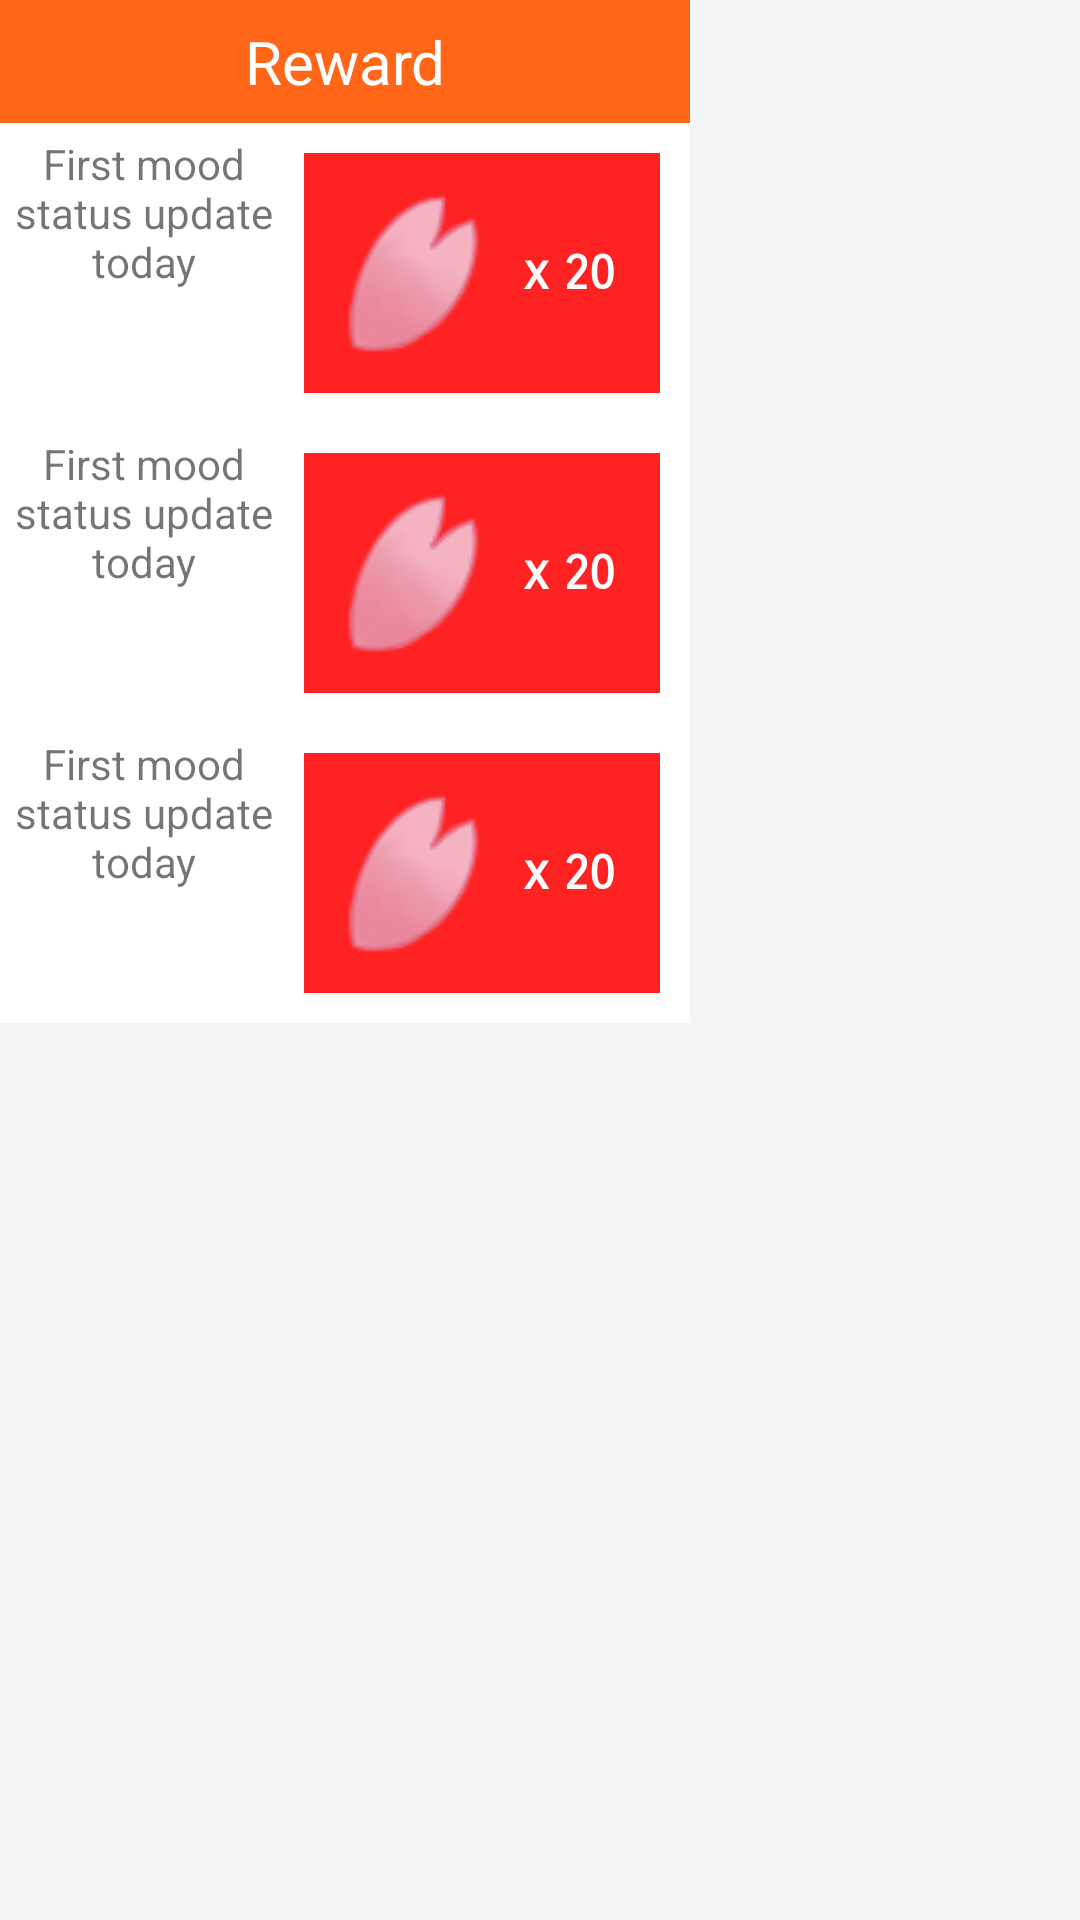

Icons on this 1080 × 1920 Android screen, each with its box as (x1, y1, x2, y2):
petal: (348, 195, 479, 352), (348, 495, 479, 652), (348, 795, 479, 952)
